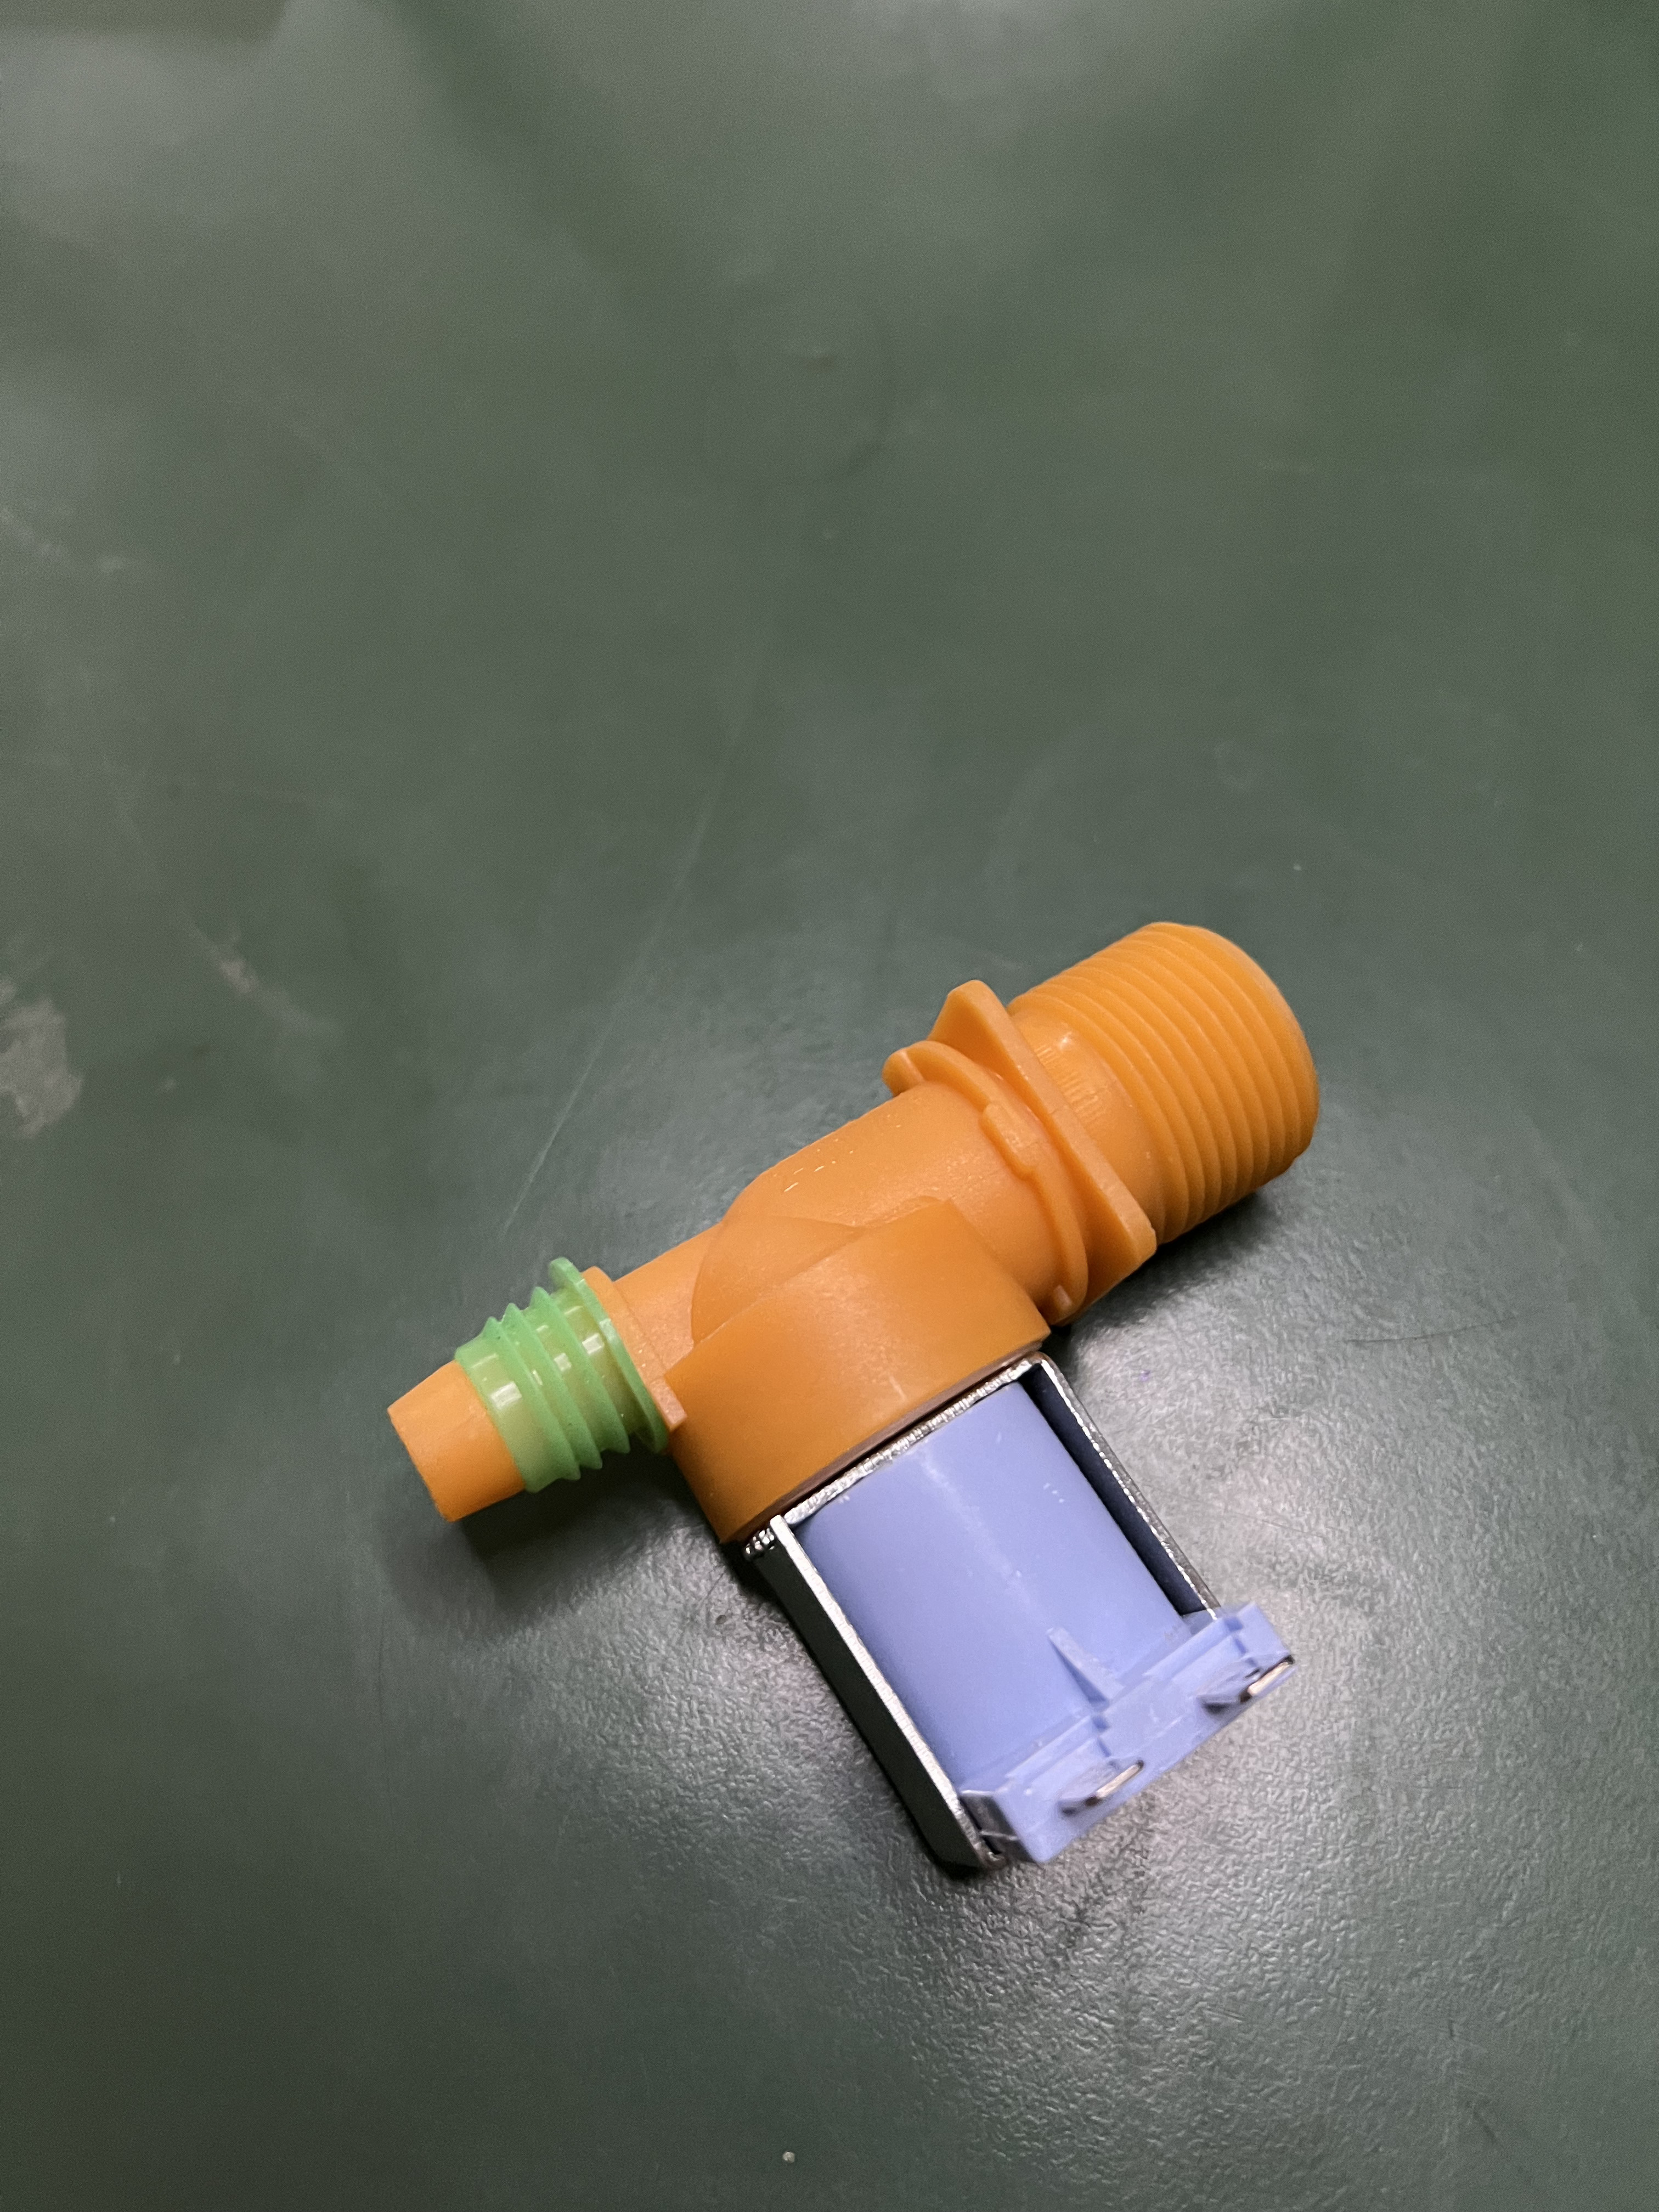ss_inlet_valves: (418, 907, 1345, 1893)
